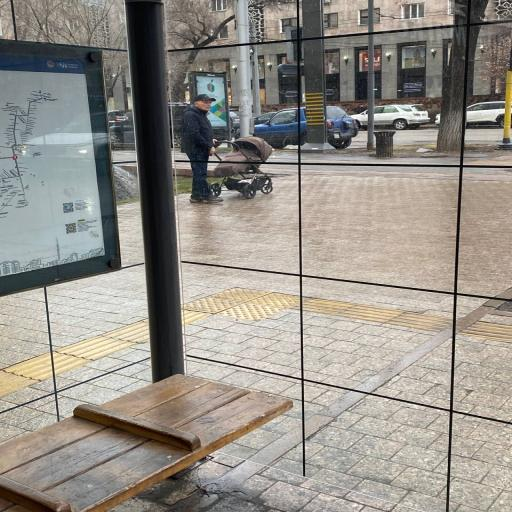book: (253, 106, 358, 149)
people: (210, 137, 273, 199)
ramp: (374, 130, 395, 158)
